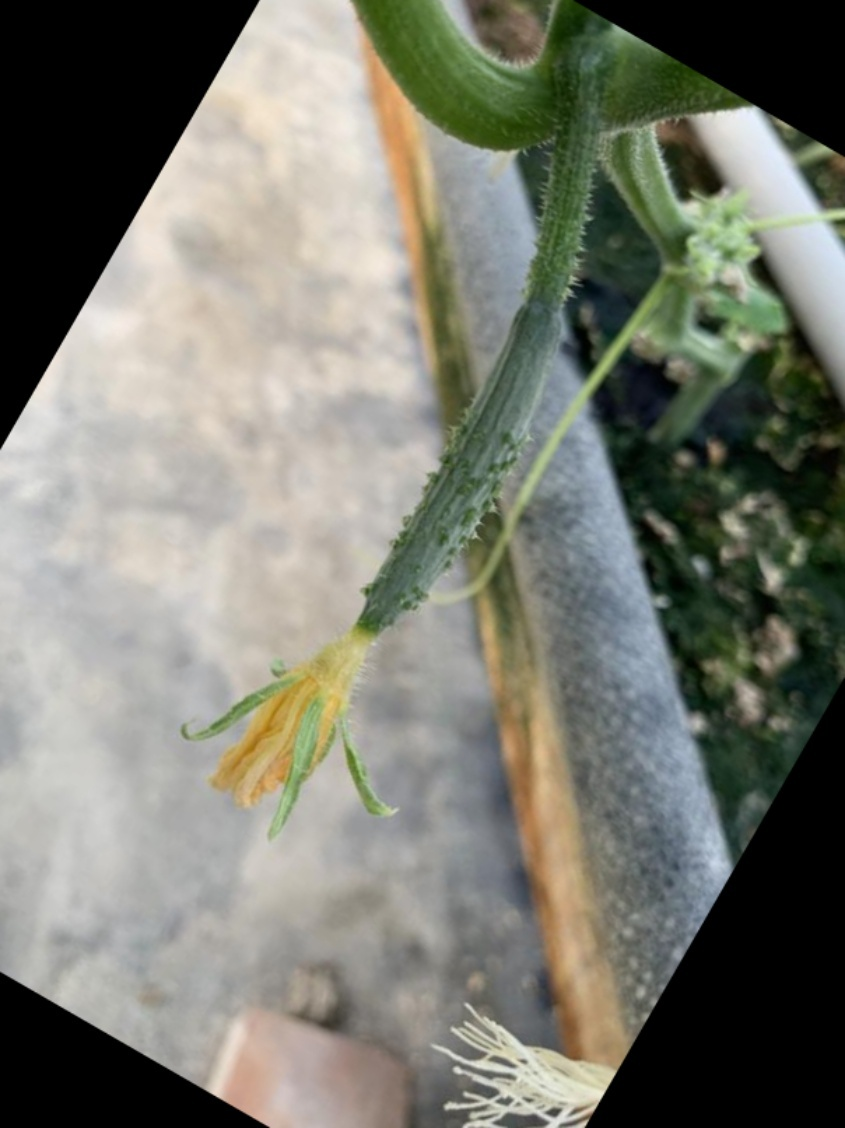bear: (191, 191, 586, 859)
